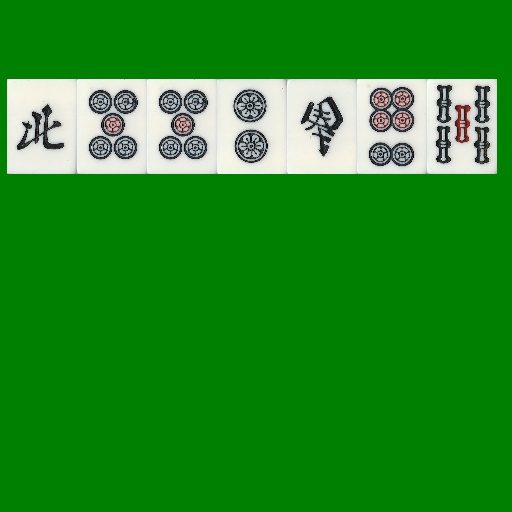2p: (217, 79, 287, 174)
5p: (77, 79, 147, 174), (147, 79, 217, 174)
5s: (427, 79, 497, 174)
6p: (357, 79, 427, 174)
north: (7, 79, 77, 174)
south: (287, 79, 357, 174)
